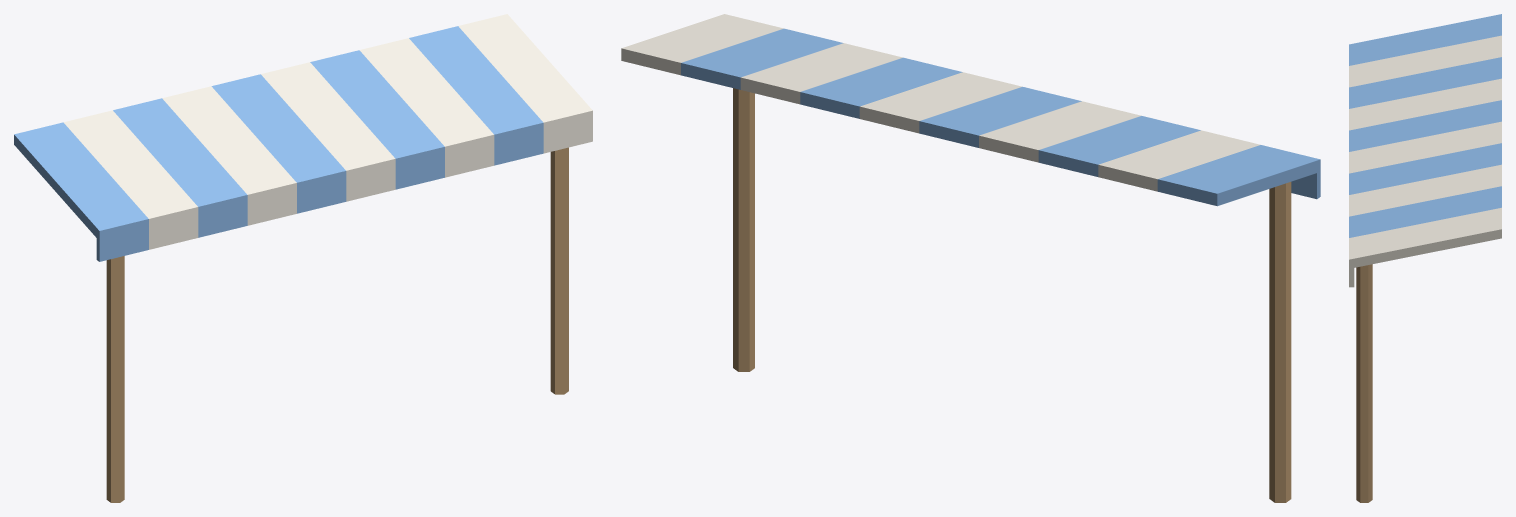
Rendered from awning_w5_0_sky.glb.
The picture shows the model from 3 angles, left to right: view 1: azimuth 30°, elevation 25°; view 2: azimuth 150°, elevation 25°; view 3: azimuth 270°, elevation 25°; orthographic projection. The views are drawn at different scales.
Parts seen in each view (by area): view 1: Player; view 2: Player; view 3: Player.
Part boxes in pixels (x1,y1,x2,y2): Player: [14, 14, 592, 502]; Player: [621, 14, 1320, 502]; Player: [1349, 14, 1501, 502].
Size of the model in its own units: 5 by 3.05 by 1.5.
